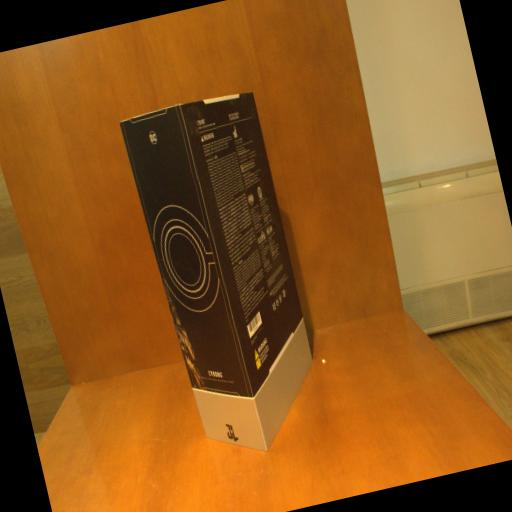Cyborg: (119, 87, 333, 462)
